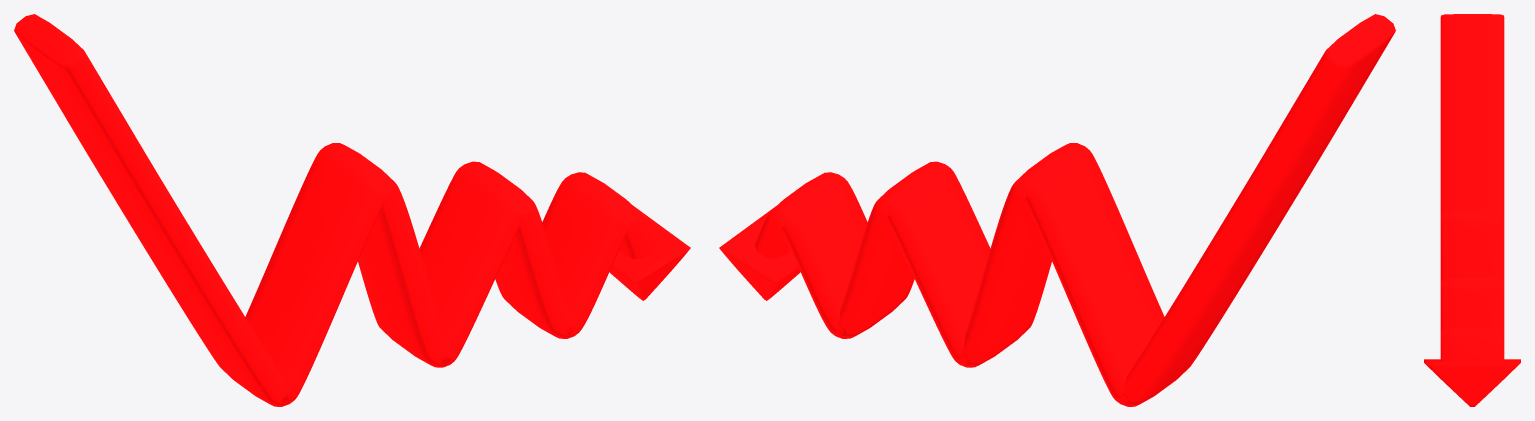
File: arrow.glb
3 renders of one model, left to right at view 1: azimuth 30°, elevation 25°; view 2: azimuth 150°, elevation 25°; view 3: azimuth 270°, elevation 25°, orthographic. The views are drawn at different scales.
Parts seen in each view (by area): view 1: Cube; view 2: Cube; view 3: Cube.
Part boxes in pixels (box(x1,y1,x2,y2)): Cube: box(14, 14, 690, 406); Cube: box(719, 14, 1395, 406); Cube: box(1424, 14, 1520, 406).
Size of the model in its own units: 4.53 by 2.91 by 1.1.
